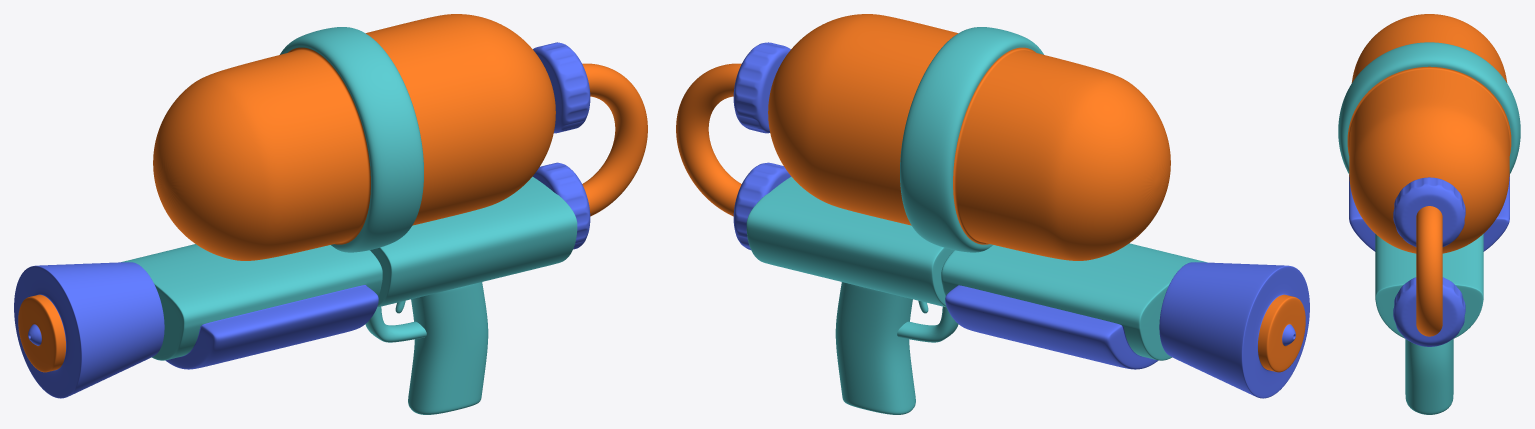
File: gunModel.fbx
3 views of the same model, side by side, from view 1: azimuth 30°, elevation 25°; view 2: azimuth 150°, elevation 25°; view 3: azimuth 270°, elevation 25° (orthographic). The views are drawn at different scales.
Parts seen in each view (by area): view 1: Pistolet à eau; view 2: Pistolet à eau; view 3: Pistolet à eau.
Boxes of the visible parts, bbox=[...] form: Pistolet à eau: bbox=[14, 14, 647, 414]; Pistolet à eau: bbox=[676, 14, 1309, 414]; Pistolet à eau: bbox=[1338, 14, 1520, 414].
Size of the model in its own units: 1037 by 631 by 329.
